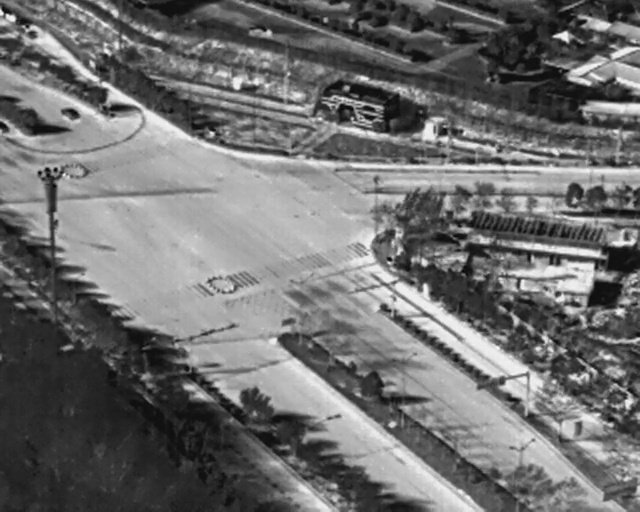Car: (61, 107, 80, 121)
